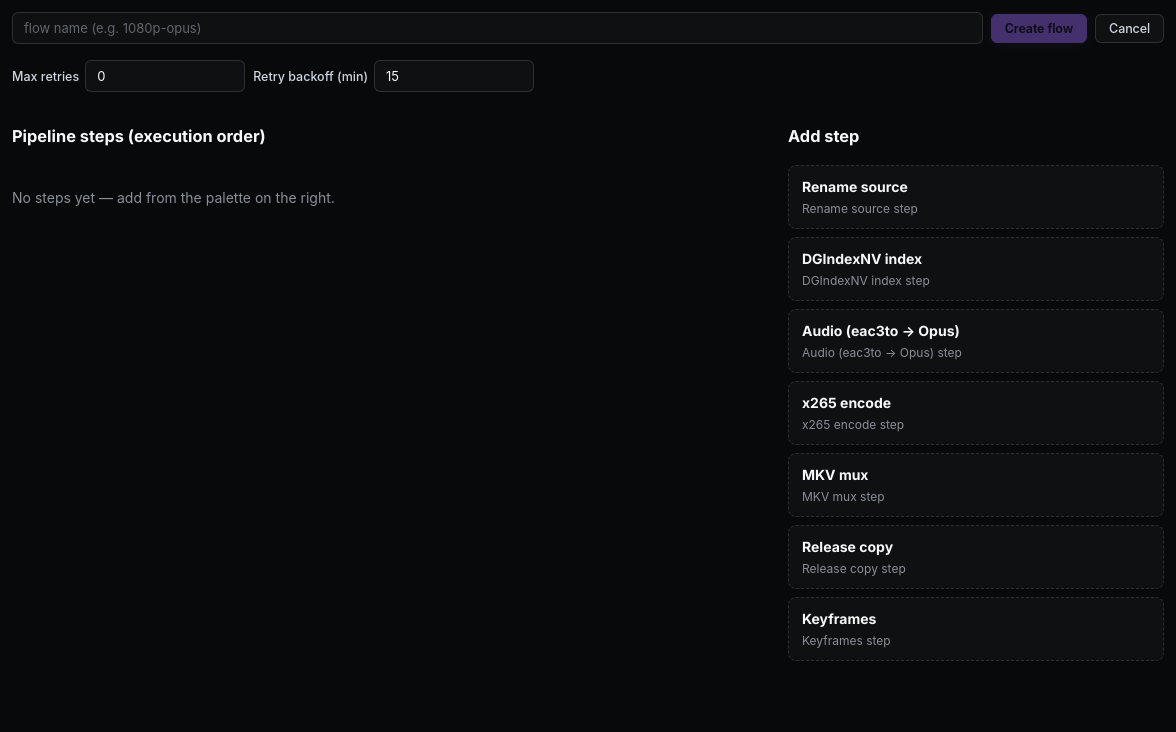
Test: FlowBuilder › adds steps from the palette in order
Click the text "DGIndexNV index": (862, 259) [802,250,922,267]
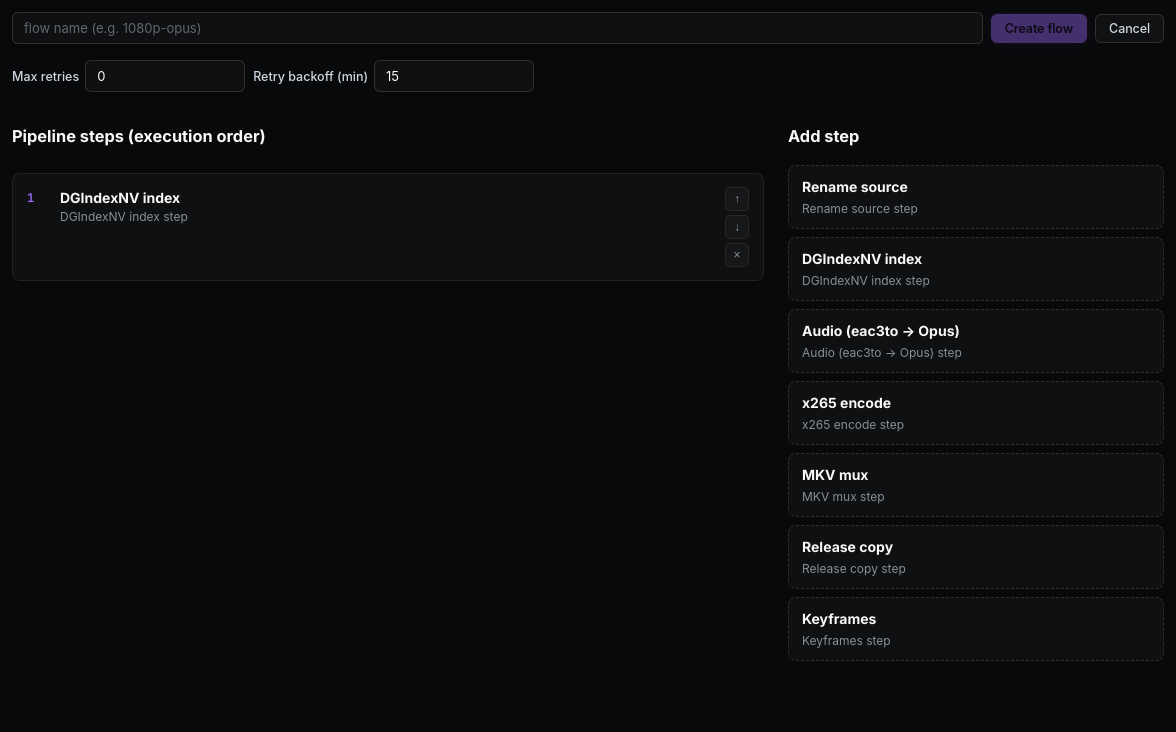
Click the text "Audio (eac3to → Opus)": (881, 331) [802,322,960,339]
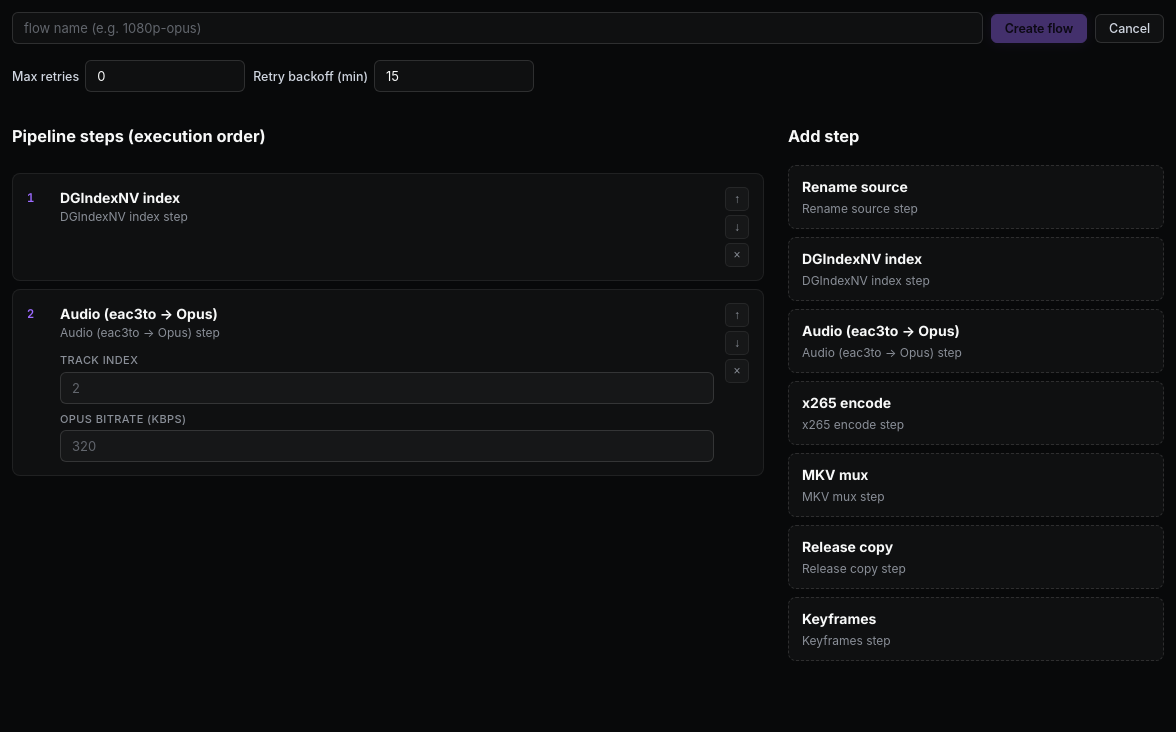
expect the heading "Pipeline steps (execution order)" is shown: met, box [12,126,266,146]
expect the text "1" is shown: met, box [27,190,34,206]
expect the text "2" is shown: met, box [27,306,34,322]
